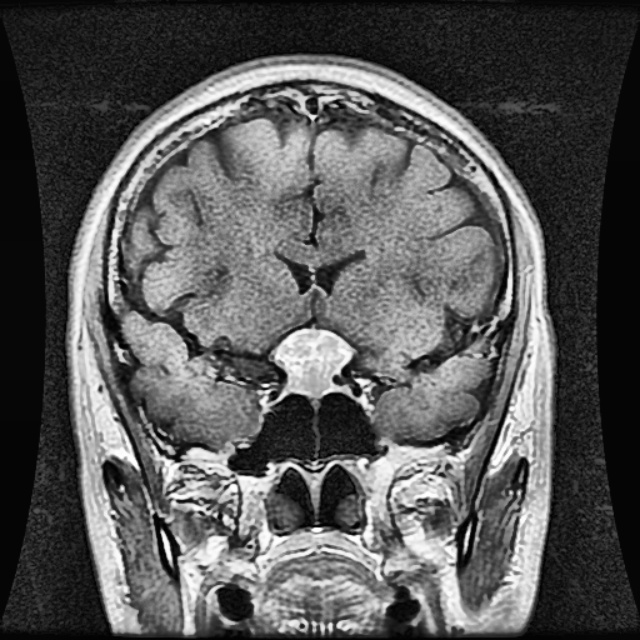Pituitary: (269, 328, 350, 395)
